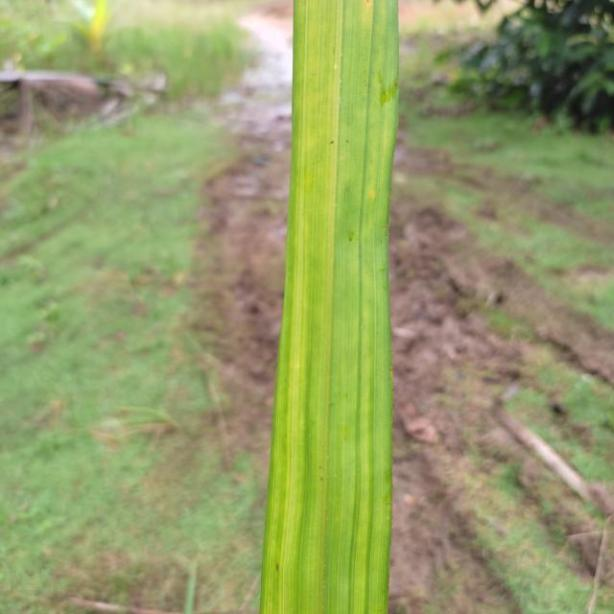nitrogen: (264, 0, 401, 614)
